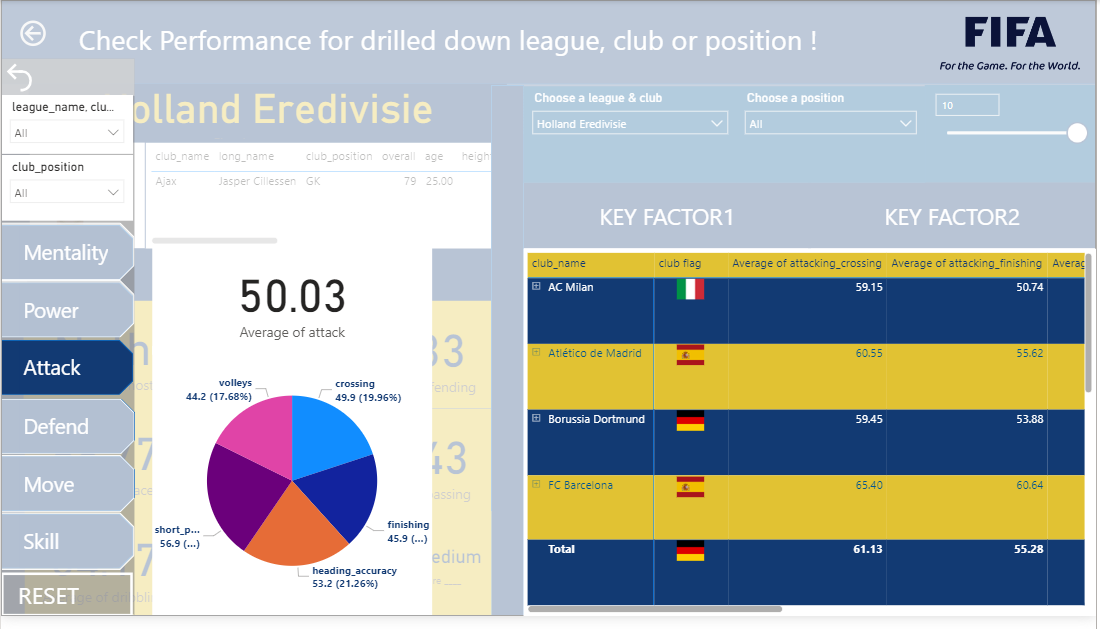

This screenshot's page, from the dashboard's own definition file:
{"tool":"powerbi","page":{"name":"performance","canvas":[1280,720],"ordinal":2},"visuals":[{"type":"shape","box":[0,0,1280,98.8],"z":0},{"type":"card","title":"country card","fields":{"Values":["Min(players_15.nationality_name)"]},"box":[26.2,340.6,367.4,142.2],"z":0,"group":"g1"},{"type":"actionButton","box":[17.9,19.2,100.3,39.8],"z":1000},{"type":"pivotTable","title":"top n club display","fields":{"Rows":["players_15.club_name","players_15.club_position"],"Values":["Min(players_15.club_flag_url)","Avg(players_15.defending)","Avg(players_15.pace)","Avg(players_15.shooting)","Avg(players_15.passing)","Avg(players_15.dribbling)","Avg(players_15.physic)","Min(players_15.work_rate)"]},"box":[610,289.5,669.6,430.1],"z":1000,"group":"g1"},{"type":"slicer","title":"para Slicer","fields":{"Values":["top club.top club"]},"box":[1080.5,98.8,199.5,114.6],"z":2000},{"type":"tableEx","fields":{"Values":["players_15.player_face_url"]},"box":[34.1,164.8,134.3,124.4],"z":2000,"group":"g1"},{"type":"group","id":"g1","title":"board","box":[26.2,97.6,1253.4,622.2],"z":3000},{"type":"tableEx","fields":{"Values":["players_15.club_name","players_15.long_name","players_15.club_position","Sum(players_15.overall)","Avg(players_15.age)","Sum(players_15.height_cm)","Sum(players_15.weight_kg)","Avg(players_15.defending)","Sum(players_15.pace)","Avg(players_15.attack)","Sum(players_15.defend)","Sum(players_15.movement)"]},"box":[169.3,166.4,409.9,124.2],"z":3000,"group":"g1"},{"type":"card","fields":{"Values":["Avg(players_15.defending)"]},"box":[384.6,348.5,189.6,128.4],"z":4000,"group":"g1"},{"type":"actionButton","title":"key2 Button","box":[944.2,213.3,335.8,77],"z":5000},{"type":"textbox","box":[30,289.9,564.4,60.4],"z":5000,"group":"g1"},{"type":"actionButton","title":"key1 Button","box":[610.4,213.3,335.8,77],"z":6000},{"type":"card","fields":{"Values":["Avg(players_15.pace)"]},"box":[27.6,468.2,188,130.4],"z":6000,"group":"g1"},{"type":"shape","box":[572.8,98.8,38.6,620.7],"z":7000},{"type":"card","fields":{"Values":["Avg(players_15.shooting)"]},"box":[211.9,474.9,181.7,122.5],"z":7000,"group":"g1"},{"type":"card","fields":{"Values":["Avg(players_15.passing)"]},"box":[391.7,476.9,181.7,122.5],"z":8000,"group":"g1"},{"type":"actionButton","title":"show pannel button","box":[0,96.5,28.9,622.3],"z":9000,"group":"g2"},{"type":"slicer","title":"League & Club List","fields":{"Values":["players_15.league_name","players_15.club_name"]},"box":[610.4,100.7,248.9,112.6],"z":9000},{"type":"card","fields":{"Values":["Avg(players_15.dribbling)"]},"box":[27.6,597.2,186.7,122.2],"z":9000,"group":"g1"},{"type":"card","fields":{"Values":["Min(players_15.league_name)"]},"box":[31.6,97.6,559.4,68.8],"z":10000,"group":"g1"},{"type":"card","title":"work rate card","fields":{"Values":["Min(players_15.work_rate)"]},"box":[391.1,597.5,181.7,122.5],"z":10000},{"type":"slicer","title":"Position List","fields":{"Values":["players_15.club_position"]},"box":[859.3,100.7,221.2,112.6],"z":11000},{"type":"card","fields":{"Values":["Avg(players_15.physic)"]},"box":[209.9,597.4,181.7,122.5],"z":11000,"group":"g1"},{"type":"group","id":"g2","title":"pannel","box":[0,0,1280,721],"z":12000},{"type":"image","box":[1080.5,0,199.5,100.7],"z":13000},{"type":"textbox","box":[67.2,19,911.2,62.1],"z":14000}]}

Visuals, with their boxes on the page's 1280x720 design canvas (x1, y1, x2, y2). These are canvas units, not pixel positions in the 1100x629 screenshot, which may show the page scaled, cropped or inside an application window:
shape: [0, 0, 1280, 99]
"country card" card: [26, 341, 394, 483]
actionButton: [18, 19, 118, 59]
"top n club display" pivotTable: [610, 290, 1280, 720]
"para Slicer" slicer: [1080, 99, 1280, 213]
tableEx - players_15.player_face_url: [34, 165, 168, 289]
"board" group: [26, 98, 1280, 720]
tableEx - players_15.club_name x players_15.long_name: [169, 166, 579, 291]
card - Avg(players_15.defending): [385, 348, 574, 477]
"key2 Button" actionButton: [944, 213, 1280, 290]
textbox: [30, 290, 594, 350]
"key1 Button" actionButton: [610, 213, 946, 290]
card - Avg(players_15.pace): [28, 468, 216, 599]
shape: [573, 99, 611, 720]
card - Avg(players_15.shooting): [212, 475, 394, 597]
card - Avg(players_15.passing): [392, 477, 573, 599]
"show pannel button" actionButton: [0, 96, 29, 719]
"League & Club List" slicer: [610, 101, 859, 213]
card - Avg(players_15.dribbling): [28, 597, 214, 719]
card - Min(players_15.league_name): [32, 98, 591, 166]
"work rate card" card: [391, 598, 573, 720]
"Position List" slicer: [859, 101, 1080, 213]
card - Avg(players_15.physic): [210, 597, 392, 720]
"pannel" group: [0, 0, 1280, 721]
image: [1080, 0, 1280, 101]
textbox: [67, 19, 978, 81]
